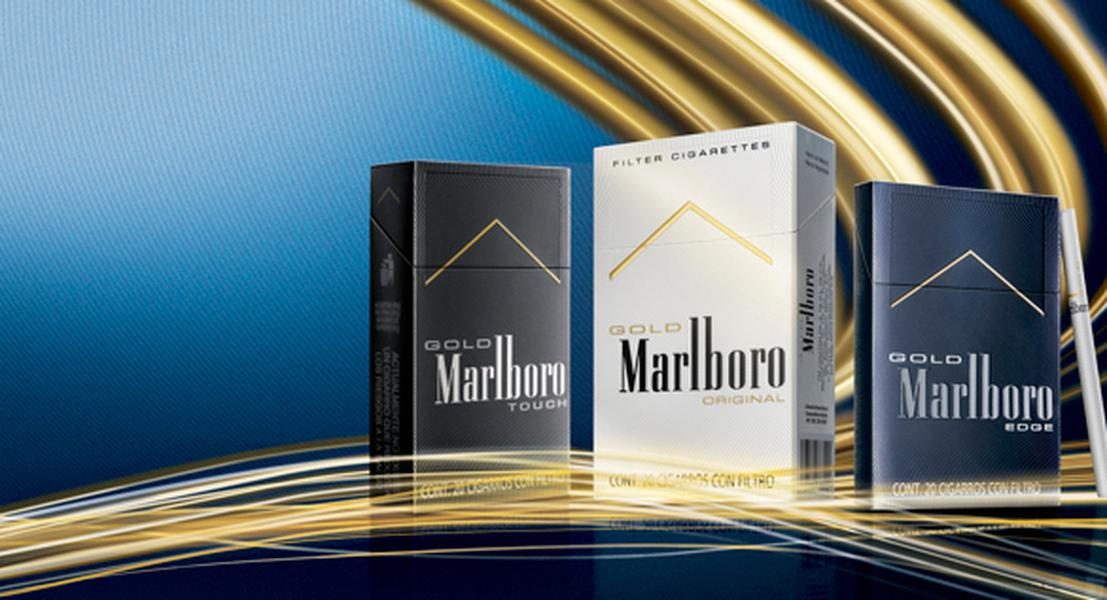marlboro_gold: (596, 141, 799, 459)
